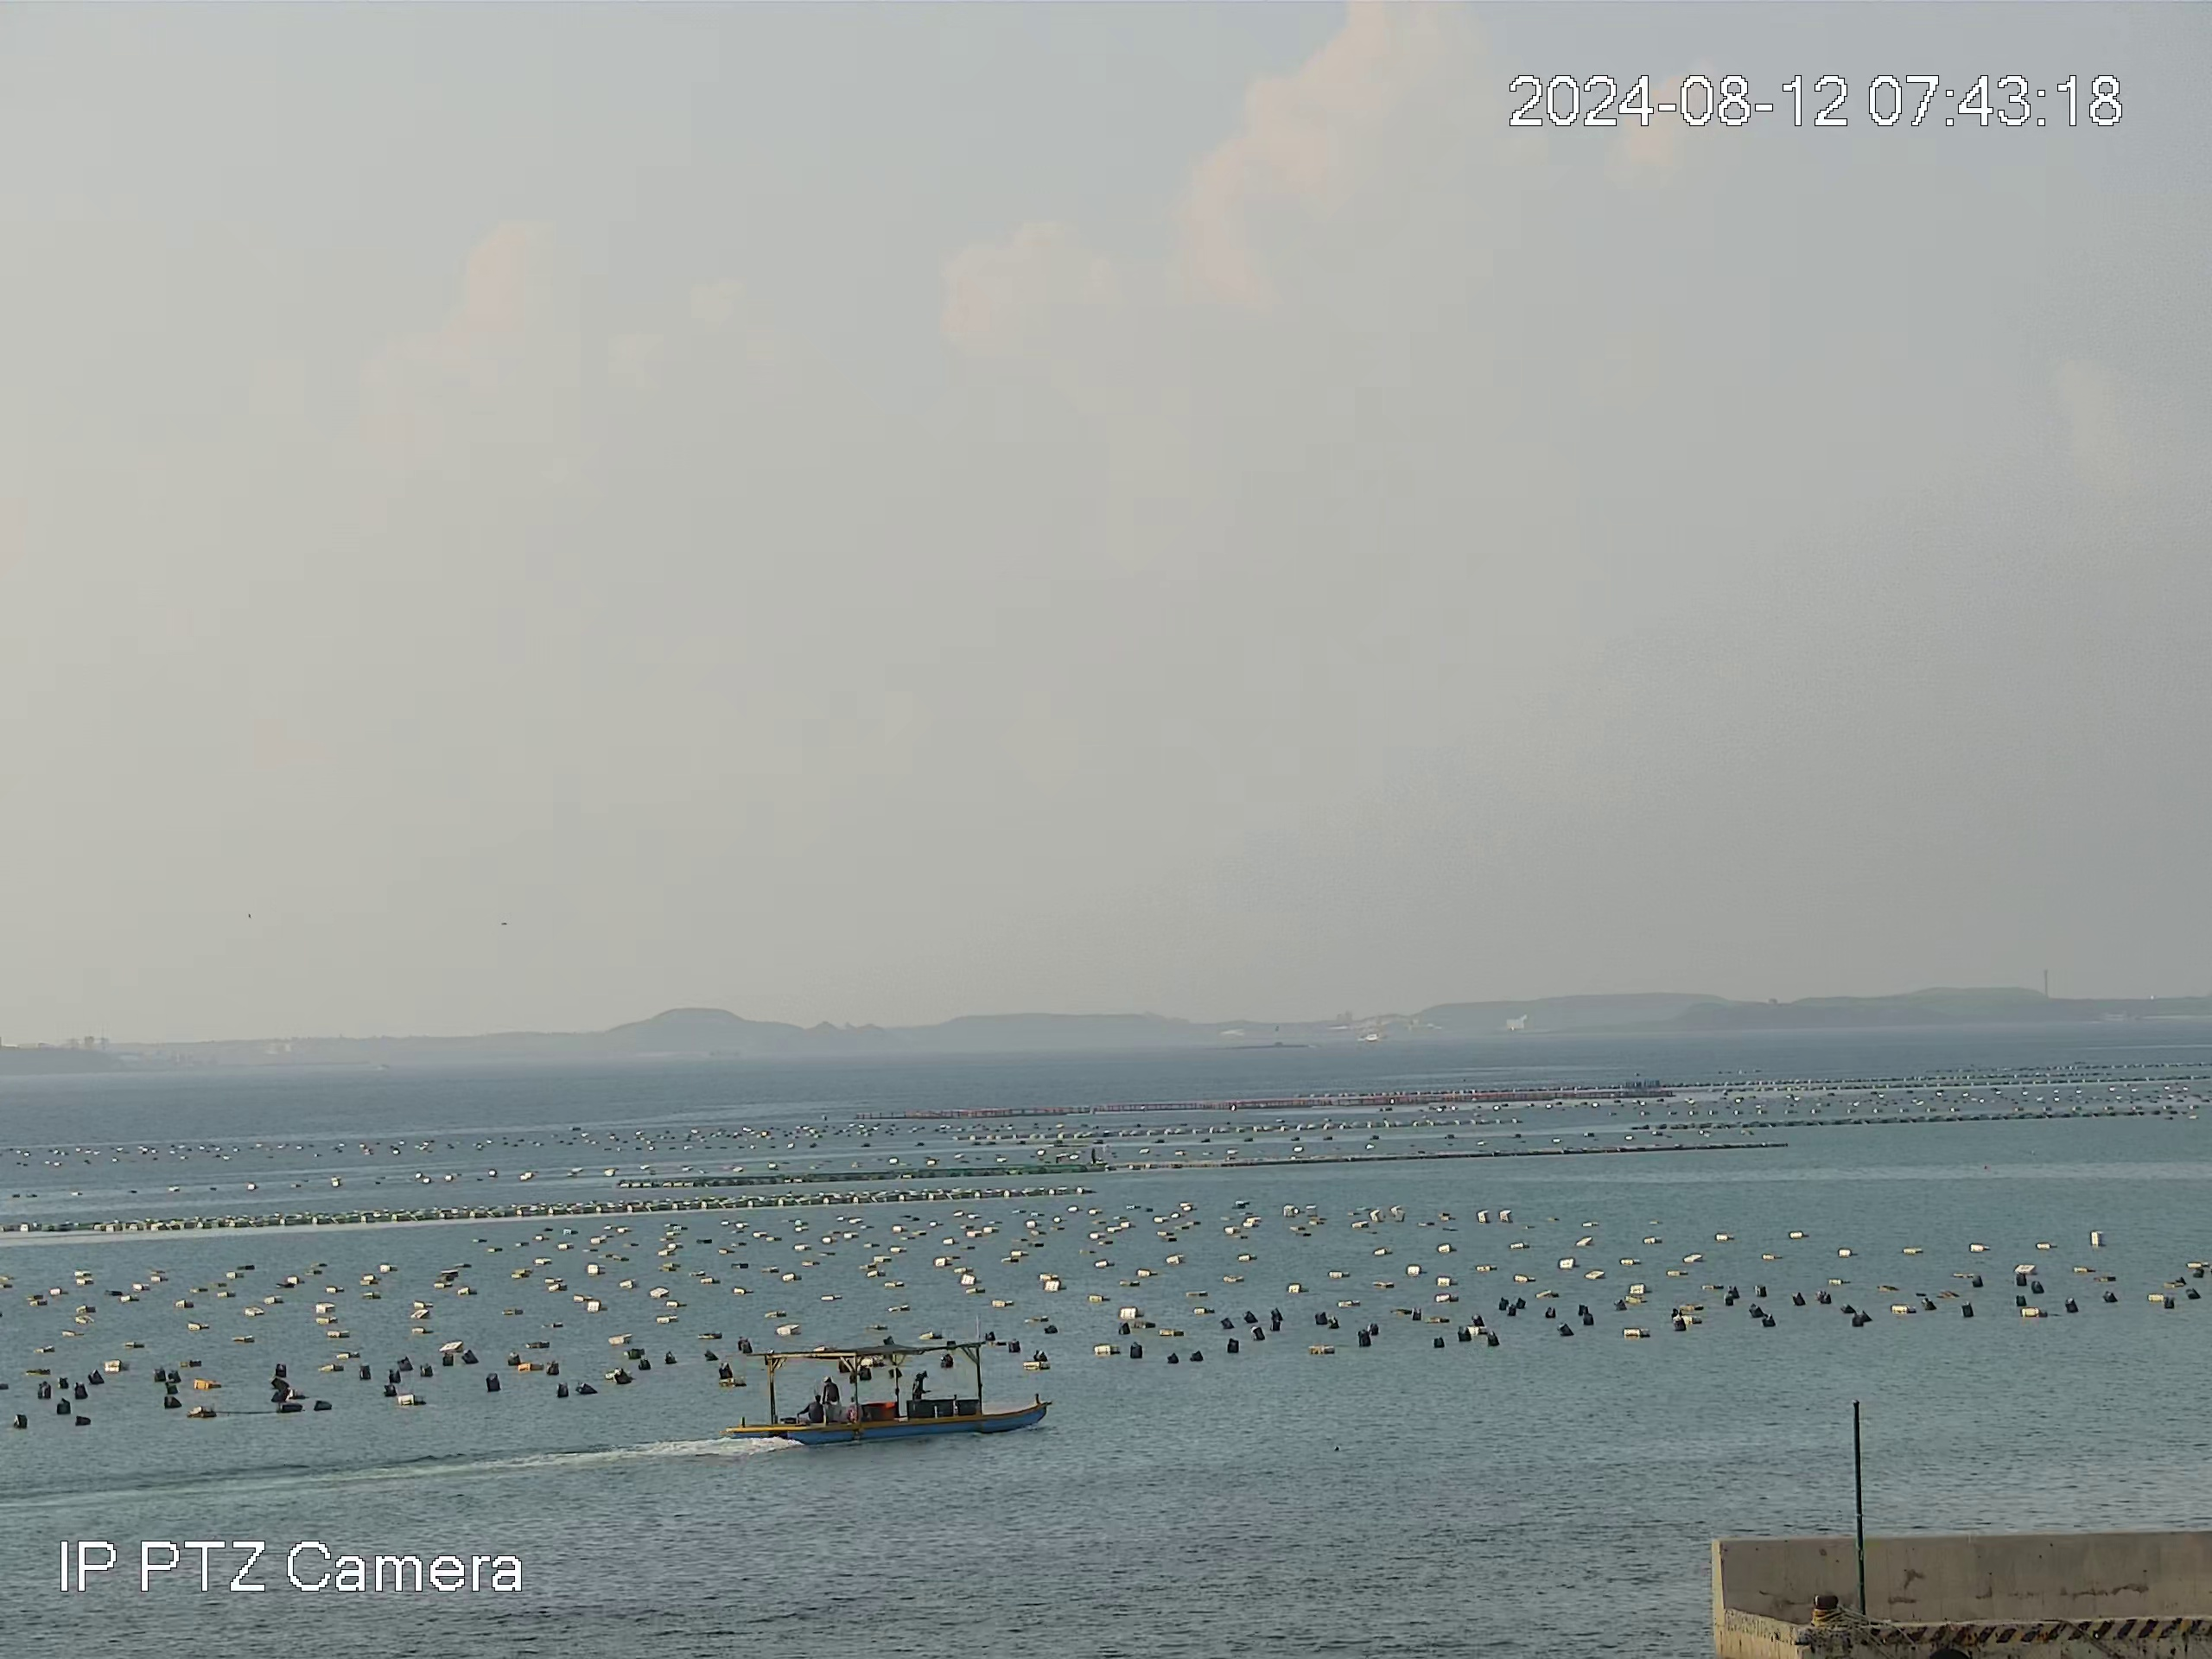boat: (714, 1340, 1060, 1446)
